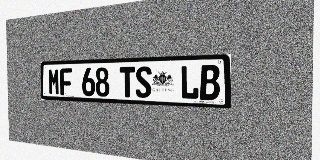6: (82, 67, 95, 96)
8: (95, 67, 109, 97)
B: (200, 65, 220, 100)
F: (60, 68, 72, 95)
L: (180, 65, 199, 100)
M: (48, 68, 60, 95)
S: (135, 66, 152, 98)
T: (120, 67, 135, 98)
